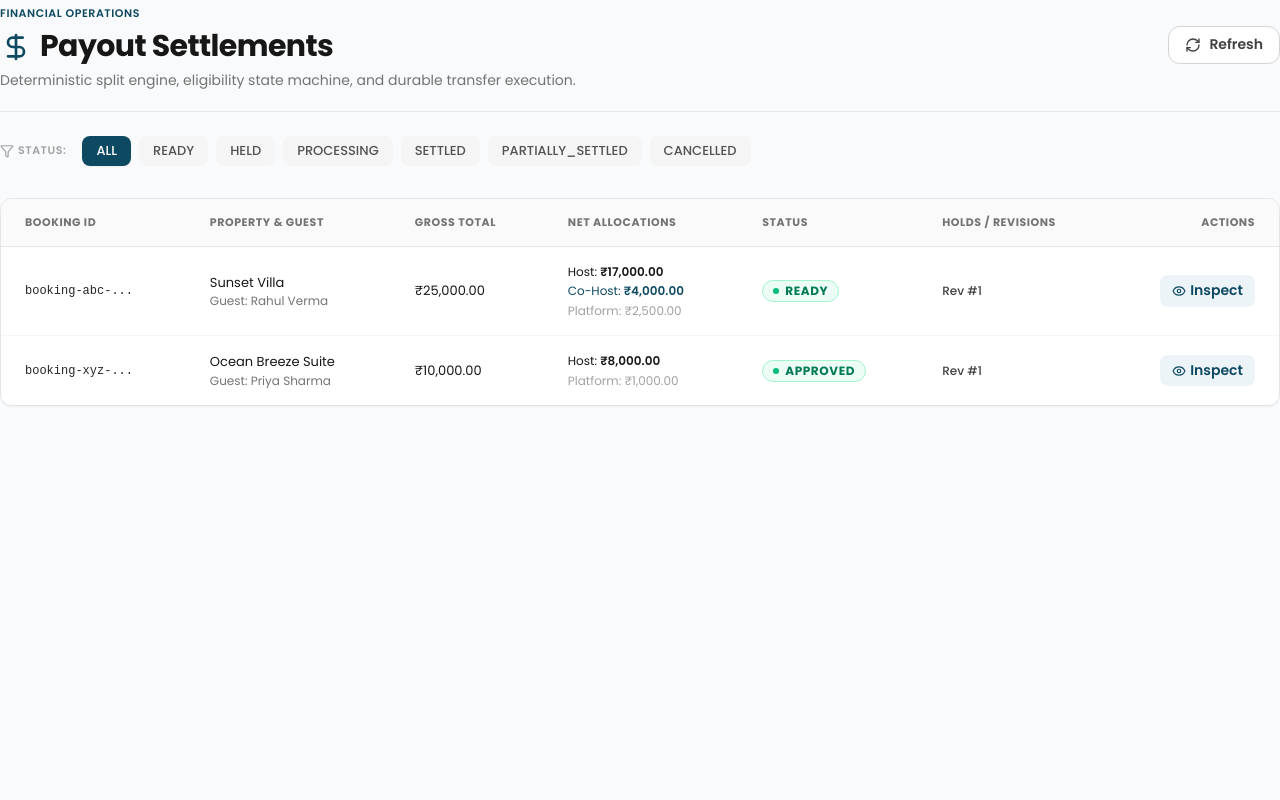
Test: Admin Settlements Inspect Regression Suite › E. Handles 404 Not Found error with clear message and retry/close controls
Expected: the text "booking-abc-..." is shown, top-left (25, 284), bottom-right (133, 298)
Click the button "Inspect" in the row of "booking-abc-" at (1208, 291), box top-left (1160, 275), bottom-right (1255, 307)
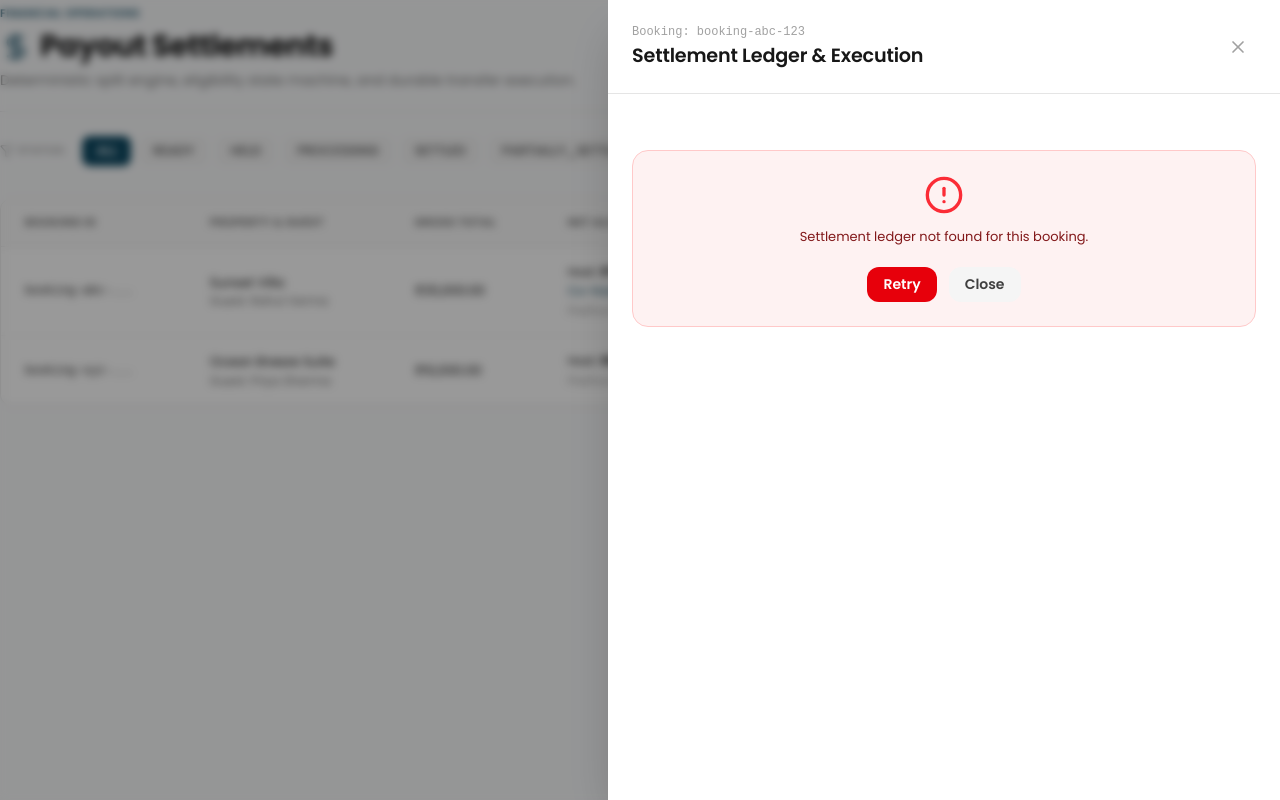
Now the text "Settlement ledger not found for this booking." is shown, box top-left (800, 227), bottom-right (1088, 246)
Now the button "Retry" is shown, box top-left (868, 267), bottom-right (937, 302)
Now the button named "close" is shown, box top-left (1220, 29), bottom-right (1256, 65)
